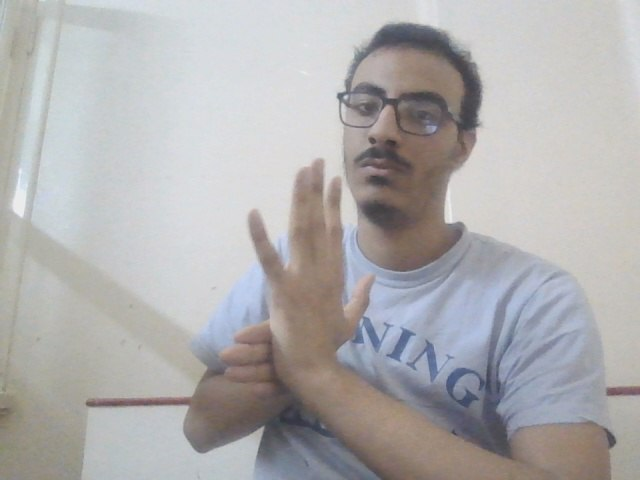Movie: (212, 155, 378, 414)
